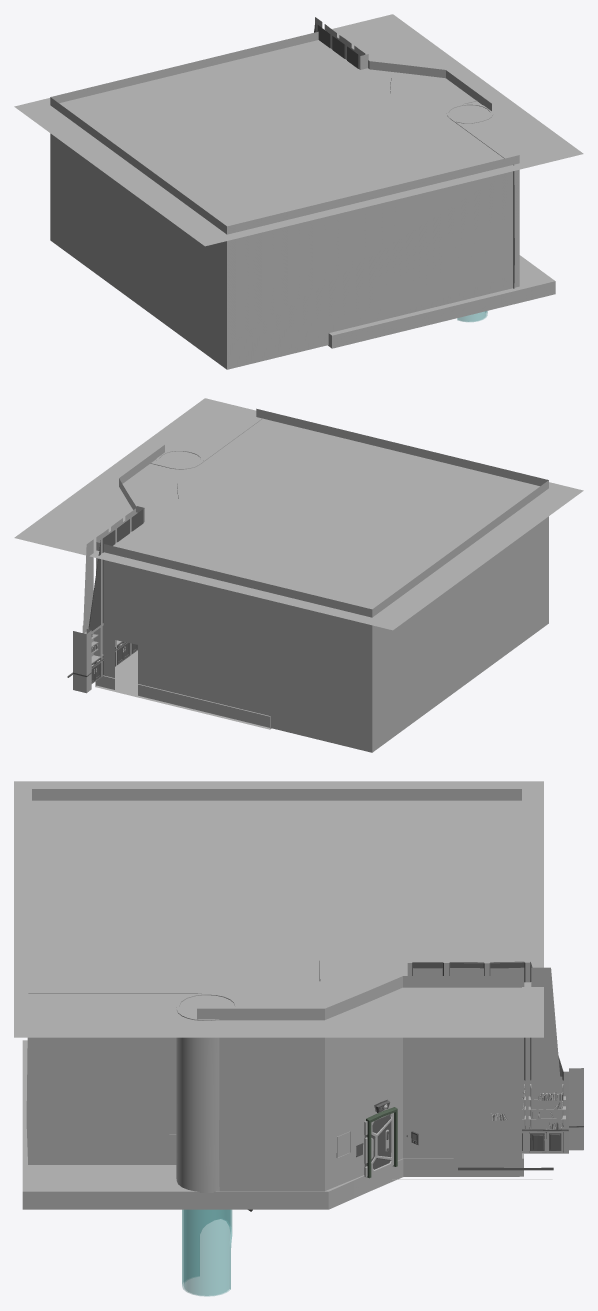
The model's file is JamMainMenu.fbx.
3 renders of one model, top to bottom at view 1: azimuth 30°, elevation 25°; view 2: azimuth 150°, elevation 25°; view 3: azimuth 270°, elevation 25°, orthographic. The views are drawn at different scales.
Visible parts, largest first — view 1: pCube1207, polySurface11169, polySurface10549, polySurface11422, pCylinder566; view 2: pCube1207, polySurface11169, polySurface11422, polySurface10549; view 3: pCube1207, polySurface11169, pCylinder566, polySurface10549, polySurface11422, pCylinder576, polySurface11855.
Boxes of the visible parts, <box> form: pCube1207: <box>14,14,583,246</box>; polySurface11169: <box>50,30,519,369</box>; polySurface10549: <box>328,255,555,348</box>; polySurface11422: <box>314,17,368,69</box>; pCylinder566: <box>446,101,514,288</box>; pCube1207: <box>14,398,583,630</box>; polySurface11169: <box>96,408,548,752</box>; polySurface11422: <box>73,506,144,693</box>; polySurface10549: <box>95,650,271,729</box>; pCube1207: <box>14,781,543,1037</box>; polySurface11169: <box>32,789,521,1191</box>; pCylinder566: <box>26,993,237,1192</box>; polySurface10549: <box>22,1040,523,1209</box>; polySurface11422: <box>406,961,583,1153</box>; pCylinder576: <box>182,1209,232,1296</box>; polySurface11855: <box>248,1099,418,1211</box>.
Size of the model in its own units: 143 by 78.03 by 134.
